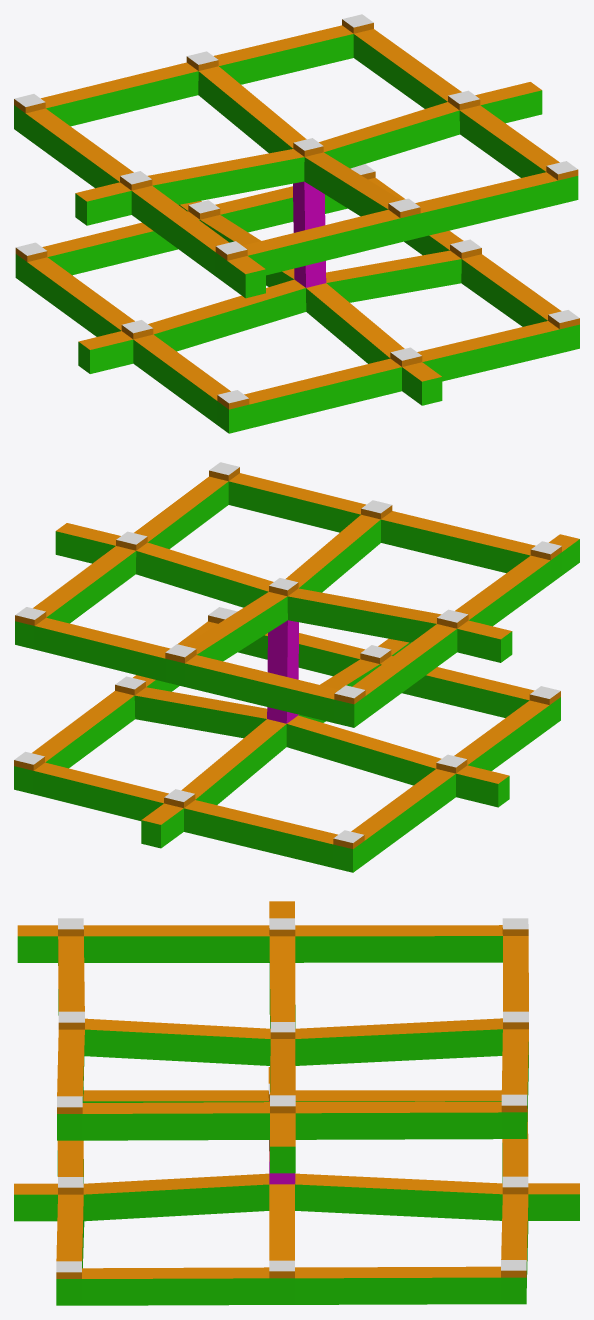
Rendered from TownABuildingInterior2.fbx.
3 views of the same model, one above another, from view 1: azimuth 30°, elevation 25°; view 2: azimuth 150°, elevation 25°; view 3: azimuth 270°, elevation 25° (orthographic). The views are drawn at different scales.
Parts seen in each view (by area): view 1: Plane; view 2: Plane; view 3: Plane.
Boxes of the visible parts, x1,y1,x2,y2 form: Plane: (14,14,579,433); Plane: (14,462,579,872); Plane: (14,901,579,1305).
Size of the model in its own units: 15800 by 5939 by 15400.
